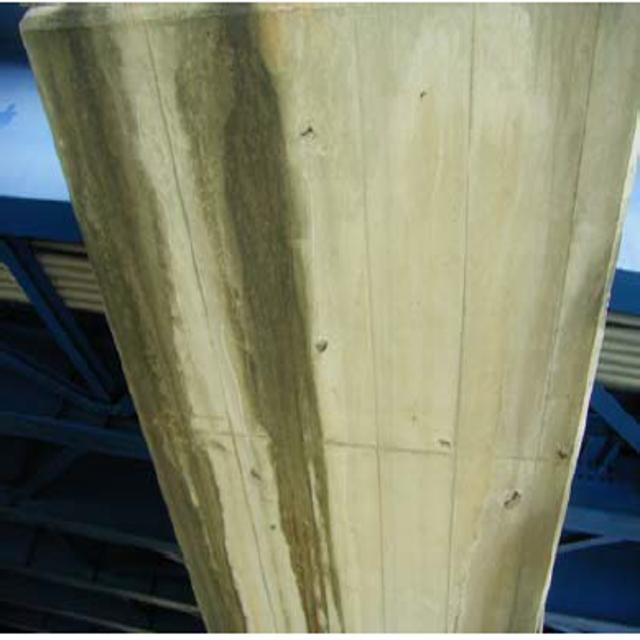leakage: (16, 3, 350, 640)
